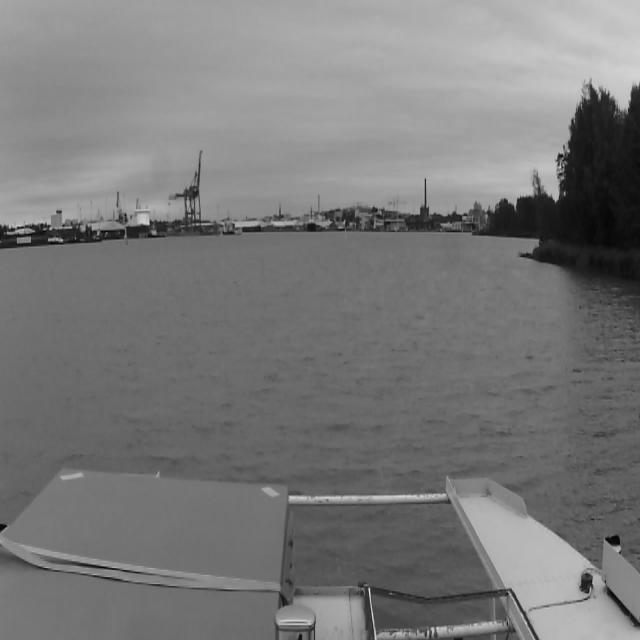ship: (127, 203, 151, 238)
